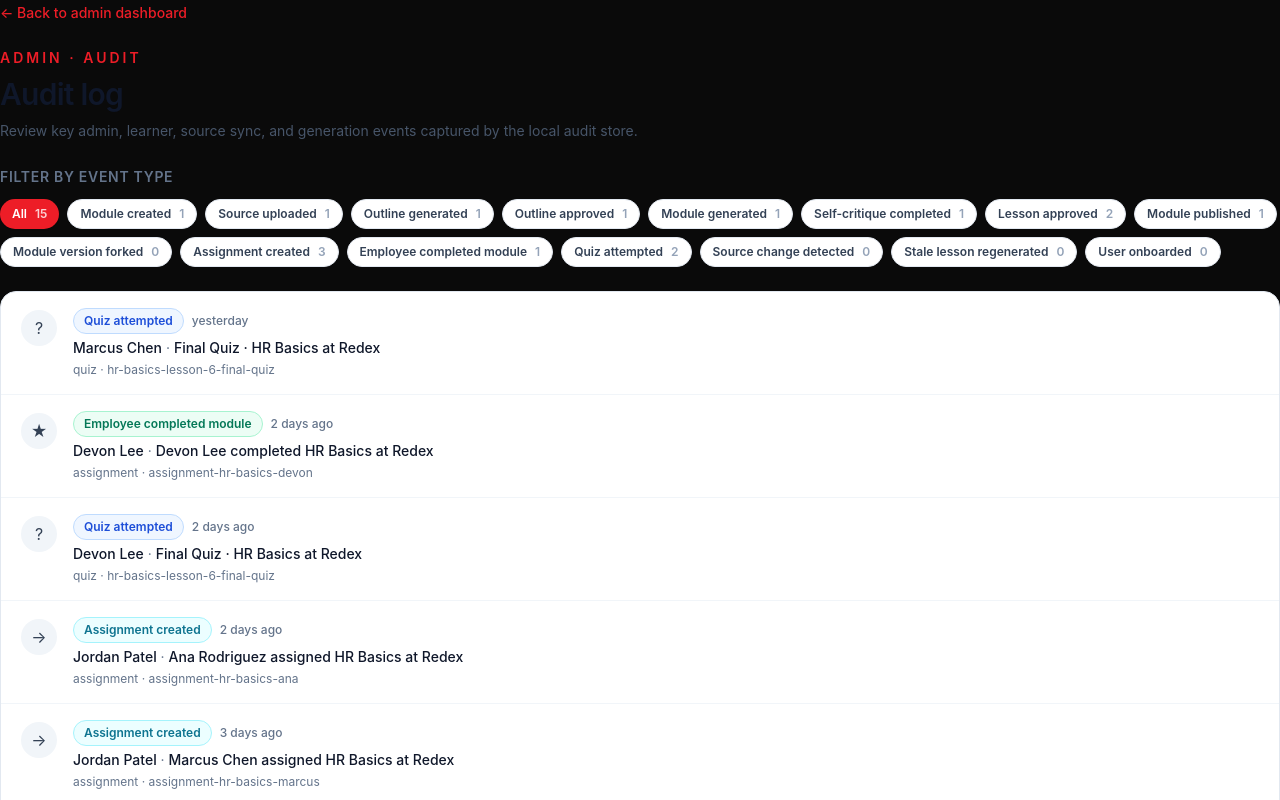
Test: AuditLogPage › shows an empty state when no events match the selected filter
Click the button "Module version forked 0" at [86, 252], box 0,237 -> 172,267
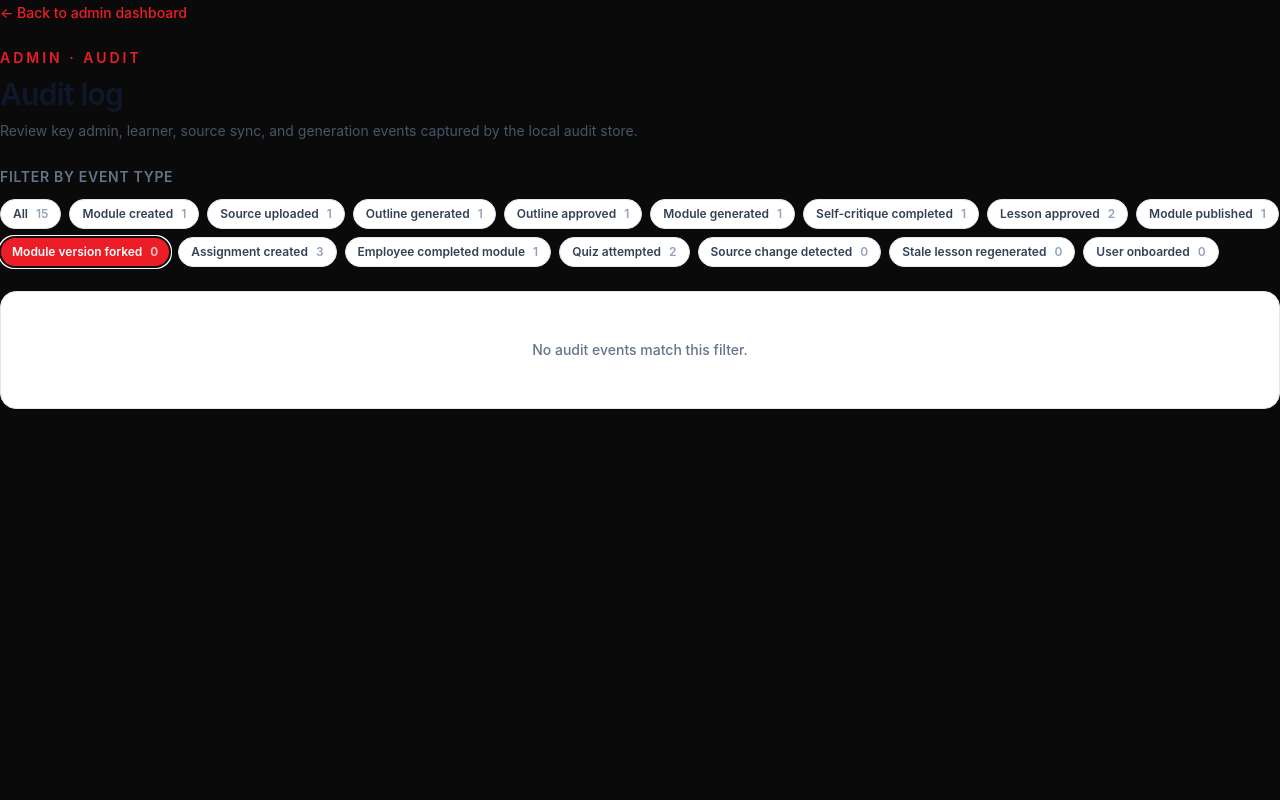
Expected: the text "No audit events match this filter." is shown, 532,341 -> 748,358
